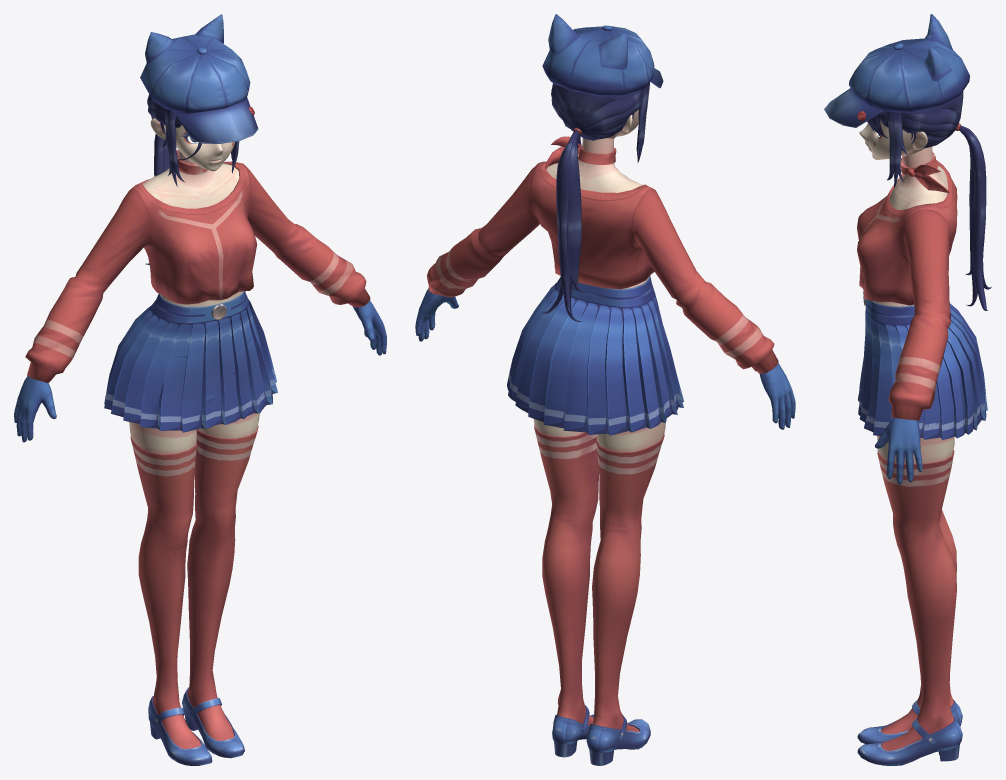
The model's file is cap_mita.glb.
3 views of the same model, side by side, from view 1: azimuth 30°, elevation 25°; view 2: azimuth 150°, elevation 25°; view 3: azimuth 270°, elevation 25° (orthographic).
Visible parts, largest first — view 1: Sweater_1_004, Pantyhose_003, Skirt_005, CapCap, Body_007, Shoes_003, Gloves, Hair_004_1, Head_1_006; view 2: Pantyhose_003, Sweater_1_004, Skirt_005, Hair_004_1, CapCap, Body_007, Shoes_003, Gloves; view 3: Sweater_1_004, Pantyhose_003, Skirt_005, CapCap, Hair_004_1, Shoes_003, Body_007, Gloves, Head_1_006, Attribute_002.
Boxes of the visible parts, x1,y1,x2,y2 form: Sweater_1_004: (25, 152, 370, 383); Pantyhose_003: (130, 425, 258, 748); Skirt_005: (104, 291, 277, 432); CapCap: (140, 14, 258, 143); Body_007: (129, 149, 259, 454); Shoes_003: (148, 687, 244, 765); Gloves: (14, 300, 386, 442); Hair_004_1: (145, 94, 239, 264); Head_1_006: (150, 118, 234, 171); Pantyhose_003: (534, 424, 664, 731); Sweater_1_004: (427, 136, 778, 373); Skirt_005: (507, 276, 683, 435); Hair_004_1: (540, 82, 649, 321); CapCap: (542, 14, 663, 96); Body_007: (533, 138, 665, 452); Shoes_003: (552, 705, 650, 765); Gloves: (415, 288, 795, 429); Sweater_1_004: (857, 153, 957, 420); Pantyhose_003: (877, 450, 956, 750); Skirt_005: (858, 289, 987, 440); CapCap: (824, 14, 969, 127); Hair_004_1: (867, 91, 991, 310); Shoes_003: (857, 699, 962, 765); Body_007: (874, 146, 954, 463); Gloves: (875, 417, 922, 484); Head_1_006: (859, 120, 927, 159); Attribute_002: (900, 152, 950, 192).
Bounding box in the file's own units: 1.76 × 3.32 × 0.7016.
Materials: 5 (5 with a texture image).
